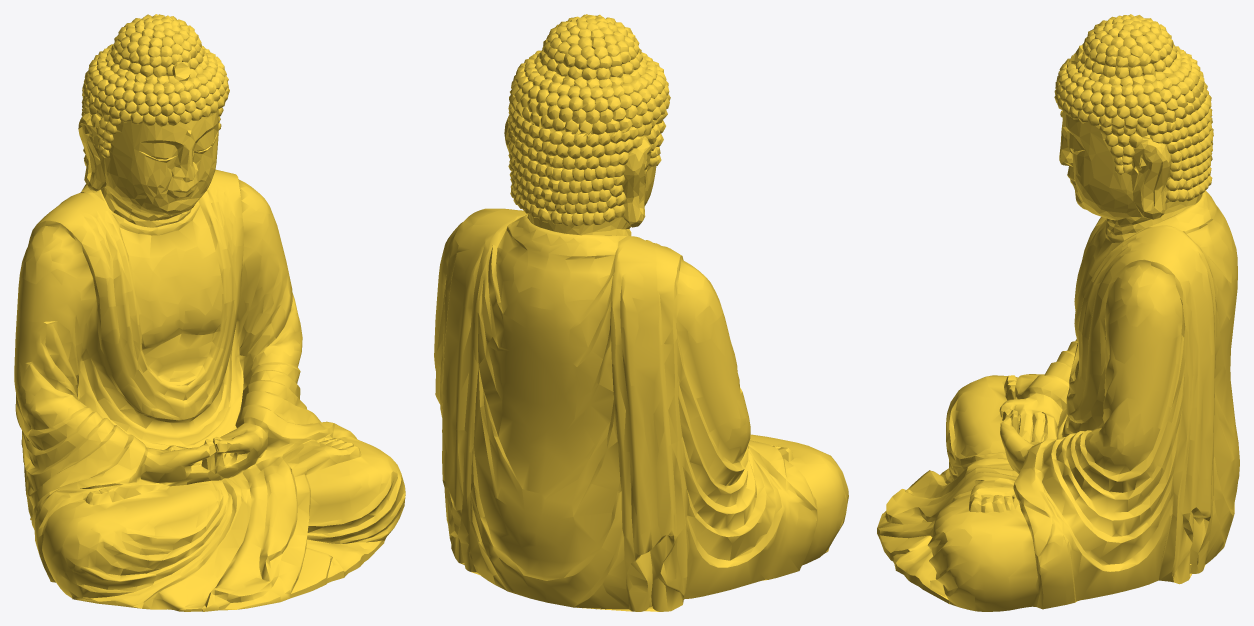
The model's file is Buddha2Low.FBX.
3 renders of one model, left to right at view 1: azimuth 30°, elevation 25°; view 2: azimuth 150°, elevation 25°; view 3: azimuth 270°, elevation 25°, orthographic. The views are drawn at different scales.
Parts seen in each view (by area): view 1: body1; view 2: body1; view 3: body1.
Boxes of the visible parts, left/top/right/bottom form: body1: left=14, top=14, right=405, bottom=611; body1: left=434, top=14, right=848, bottom=611; body1: left=877, top=14, right=1239, bottom=611.
Size of the model in its own units: 195 by 275 by 176.
